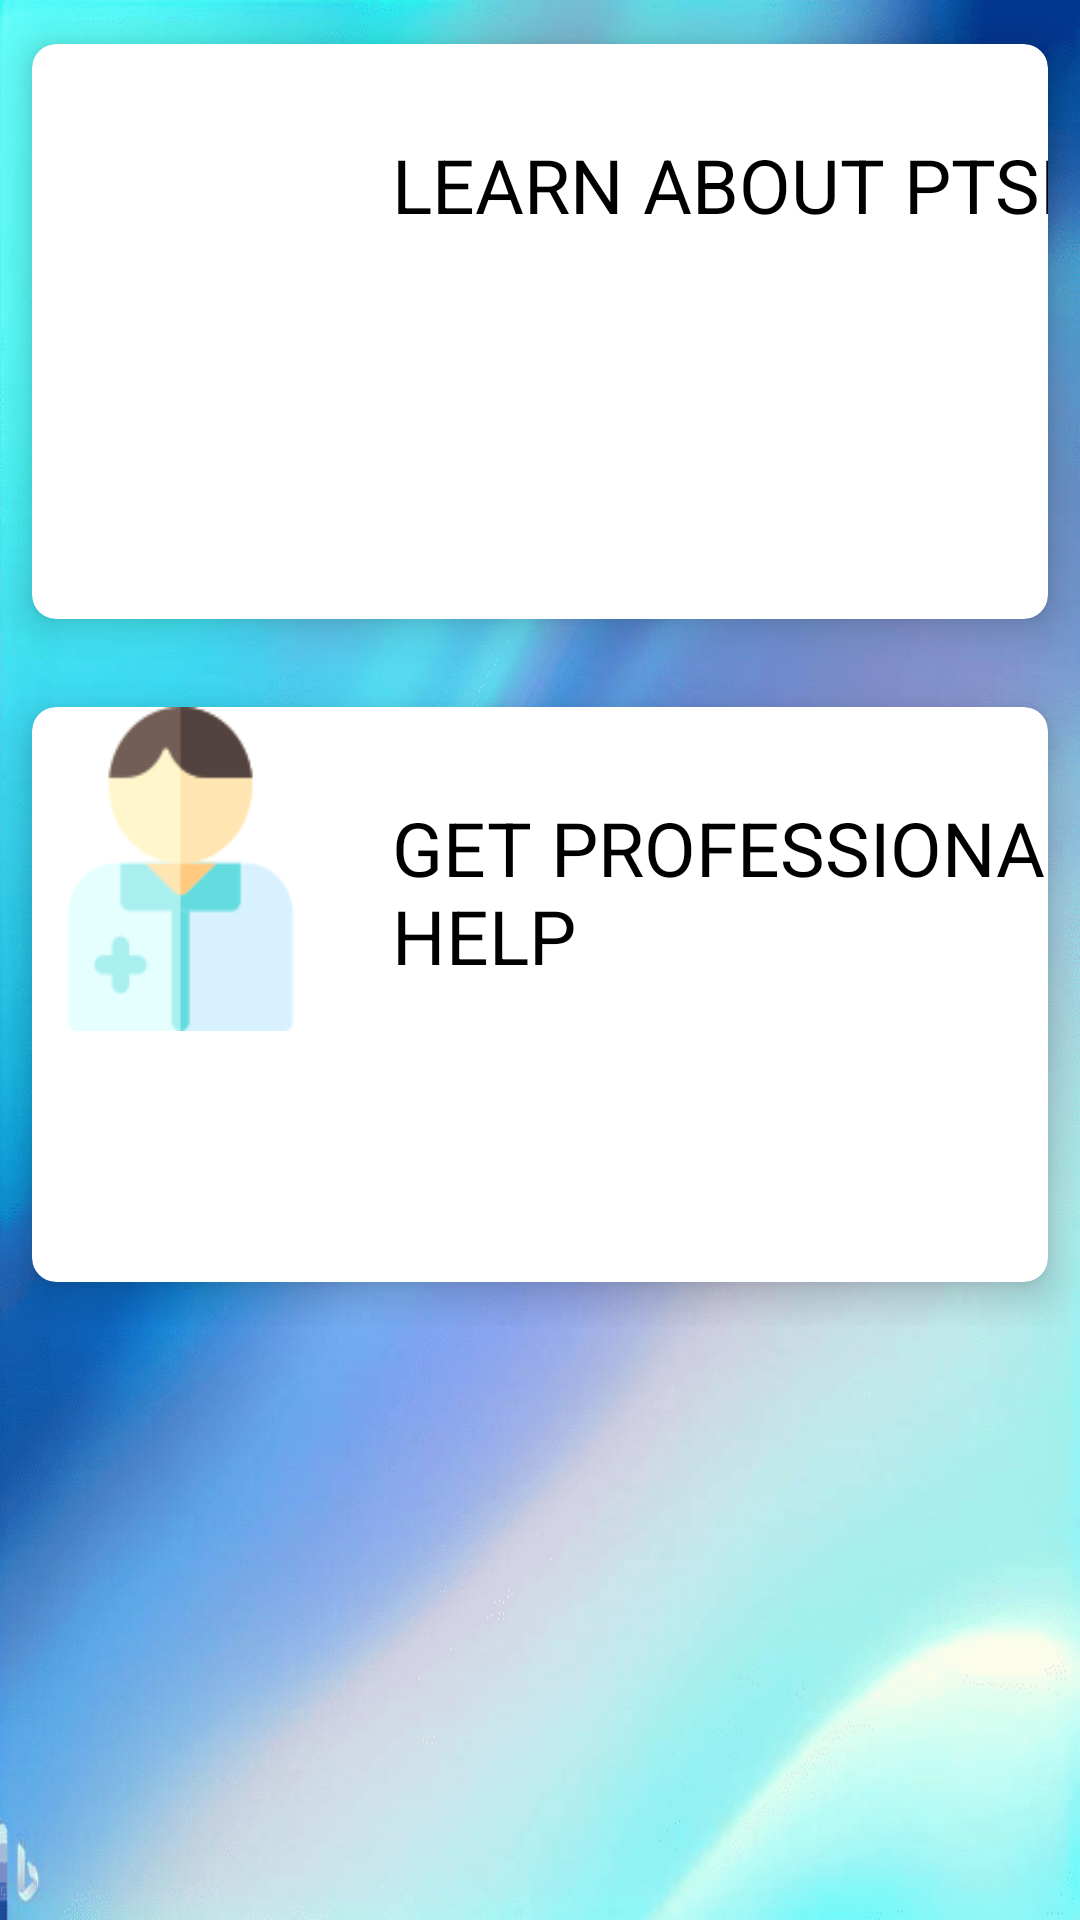

Point at icon controls on the screen. Image size 1080x1920, points as [x,y].
profhelp: [180,869]
